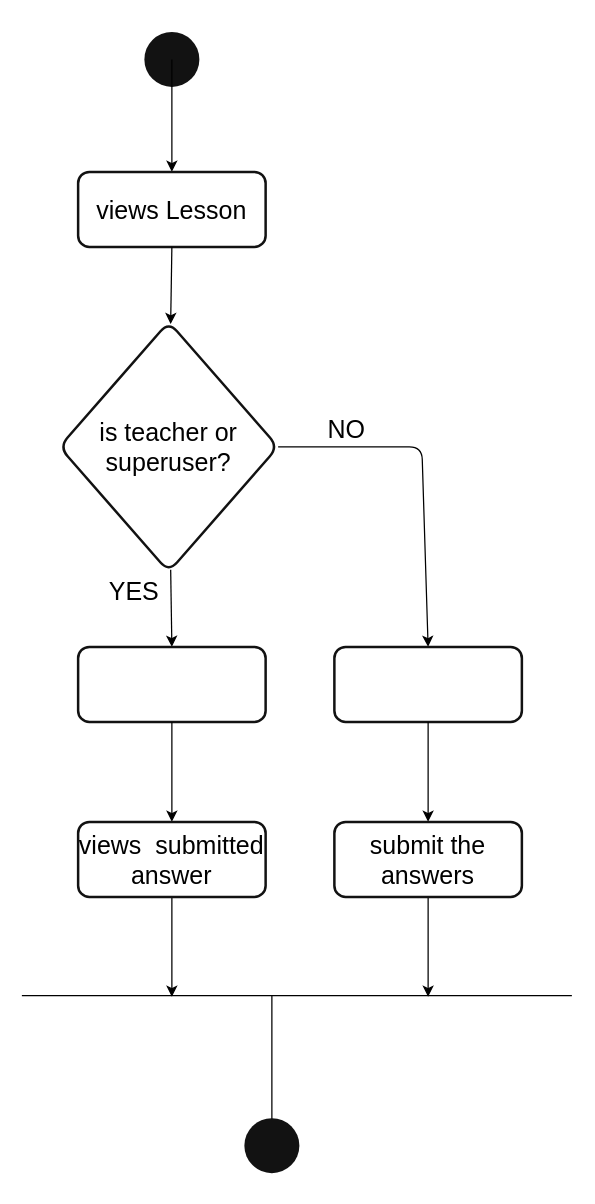
Image size: 595x1204. Some labels were removed from this diagram. The shapes that lost their labels are listed below. From the top down, each one's centre as x and y in pixels, then its label:
(x=171, y=683): creates Practice Questions
(x=427, y=683): views Practice Questions
